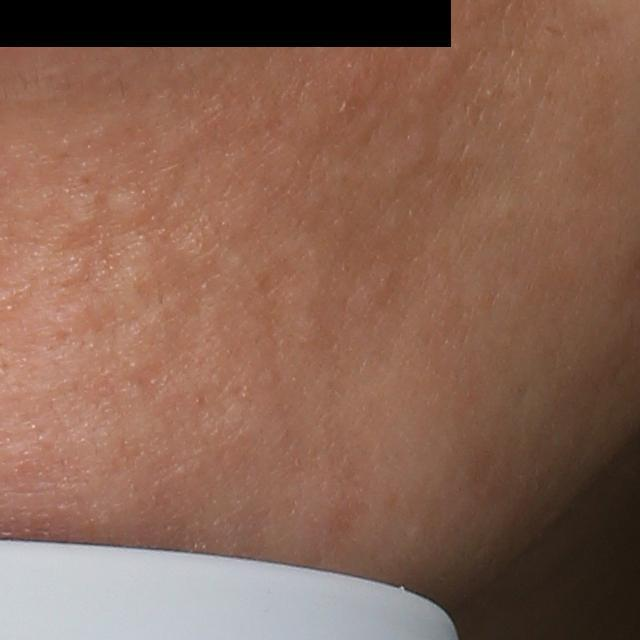hypertrophic_scar: (57, 186, 96, 229), (104, 189, 143, 227)
